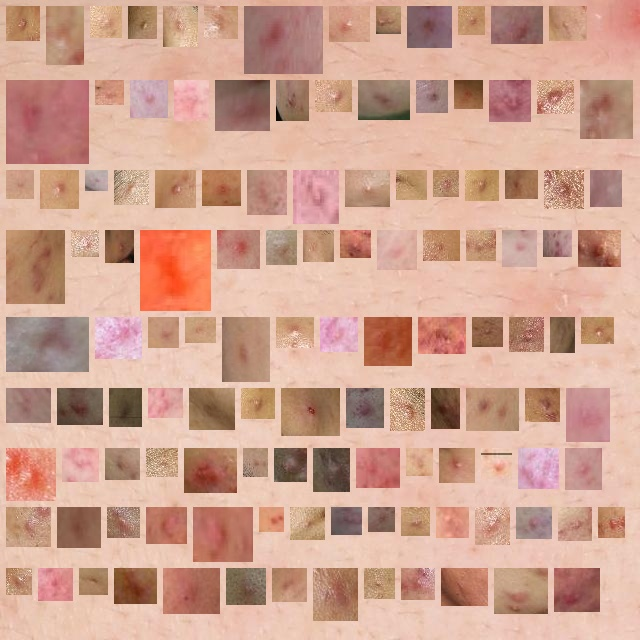papule: (14, 88, 81, 156), (148, 238, 203, 303), (252, 14, 315, 66), (14, 325, 81, 364), (14, 238, 57, 296), (201, 515, 245, 554), (588, 88, 625, 131), (230, 325, 262, 374), (289, 396, 332, 428), (223, 88, 262, 123), (14, 456, 48, 493), (171, 576, 212, 606), (301, 178, 331, 216), (502, 576, 540, 606), (192, 456, 229, 485), (321, 576, 350, 613), (574, 396, 602, 434), (372, 325, 404, 358), (474, 396, 511, 423), (54, 14, 76, 57), (366, 88, 402, 112), (562, 576, 592, 604), (103, 325, 134, 351), (499, 14, 535, 36), (197, 396, 227, 422), (415, 14, 444, 40), (65, 515, 93, 540), (255, 178, 279, 207), (14, 515, 43, 539), (449, 576, 480, 598), (497, 88, 523, 114), (426, 325, 458, 346), (364, 456, 392, 480), (65, 396, 95, 417), (526, 456, 551, 481), (225, 238, 252, 261), (353, 178, 382, 199), (321, 456, 342, 484), (385, 238, 409, 262), (586, 238, 613, 259), (552, 178, 576, 201), (14, 396, 43, 415), (163, 178, 188, 200), (573, 456, 594, 482), (122, 576, 149, 596), (48, 178, 71, 201), (354, 396, 376, 420), (154, 515, 179, 536), (398, 396, 417, 423), (234, 576, 258, 597), (337, 14, 362, 34), (138, 88, 160, 110), (171, 14, 190, 39), (182, 88, 201, 113), (210, 178, 233, 198), (284, 88, 301, 113), (557, 14, 579, 33), (328, 325, 350, 344), (483, 515, 502, 537), (510, 238, 529, 259), (117, 396, 134, 419), (447, 456, 467, 475), (545, 88, 566, 106), (70, 456, 91, 474), (122, 178, 141, 197), (517, 325, 536, 344), (14, 14, 32, 33), (533, 396, 552, 414), (280, 576, 299, 594), (323, 88, 344, 104), (598, 178, 614, 199), (284, 325, 306, 340), (439, 396, 452, 421), (566, 515, 584, 533), (298, 515, 317, 532), (46, 576, 65, 593), (524, 515, 544, 531), (431, 238, 452, 253), (212, 14, 230, 31), (282, 456, 299, 474), (113, 456, 132, 472), (409, 576, 427, 592), (274, 238, 289, 257), (424, 88, 440, 105), (473, 178, 491, 193), (249, 396, 267, 411), (156, 396, 175, 410), (98, 14, 114, 30), (115, 515, 132, 530), (444, 515, 461, 530), (311, 238, 326, 254), (156, 325, 171, 340), (489, 456, 504, 471), (372, 576, 387, 591), (136, 14, 149, 31), (513, 178, 530, 191), (113, 238, 126, 255), (404, 178, 419, 192), (474, 238, 488, 253), (480, 325, 495, 339), (154, 456, 170, 469), (589, 325, 606, 336), (348, 238, 363, 250), (558, 325, 567, 345), (339, 515, 354, 527), (462, 88, 475, 101), (409, 515, 422, 528), (606, 515, 617, 530), (14, 178, 26, 191), (193, 325, 208, 335), (466, 14, 477, 27), (551, 238, 564, 249), (87, 576, 100, 587), (79, 238, 91, 249), (414, 456, 425, 468), (103, 88, 116, 97), (251, 456, 260, 469), (441, 178, 451, 189), (14, 576, 24, 587), (384, 14, 393, 26), (376, 515, 387, 524), (267, 515, 276, 524), (93, 178, 100, 183)
